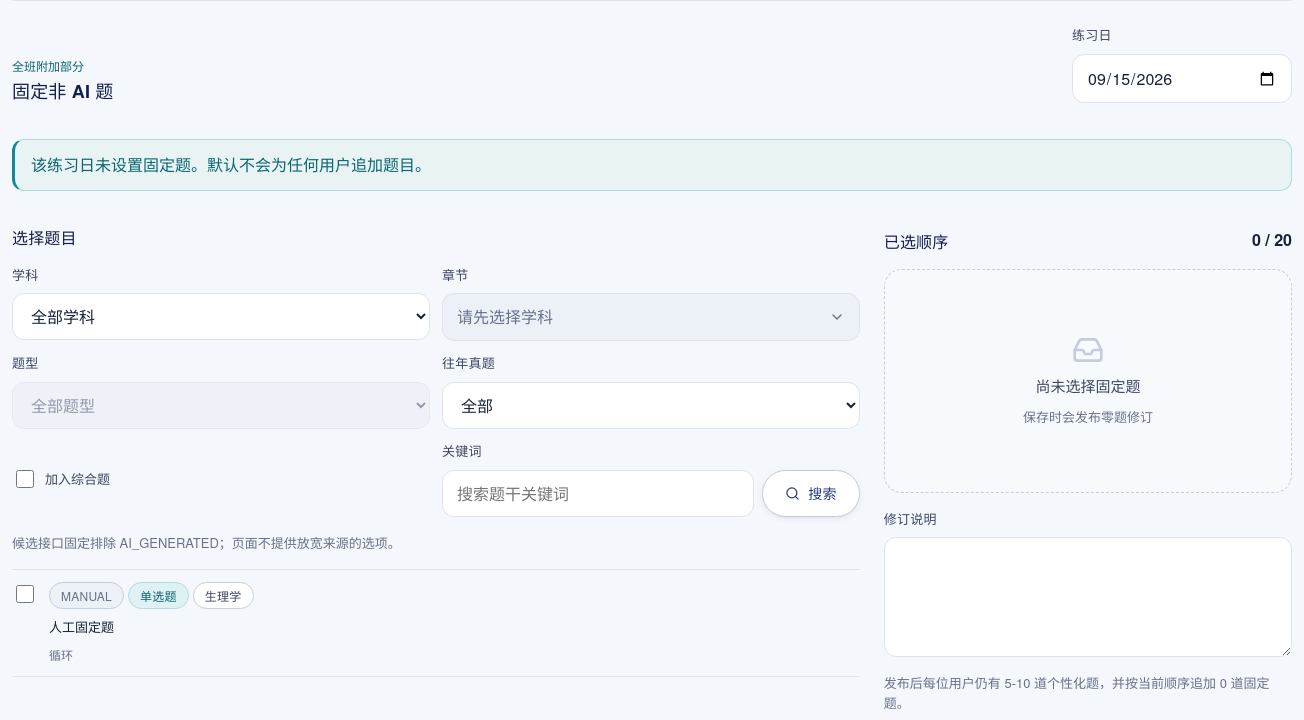
Test: AdminDailyFixedQuestions › does not show candidates from the previous filters when the new filter fails
Select "仅往年真题" in the dropdown with id "fixed-paper": (651, 405) [442,382,860,429]
(page scrolled)
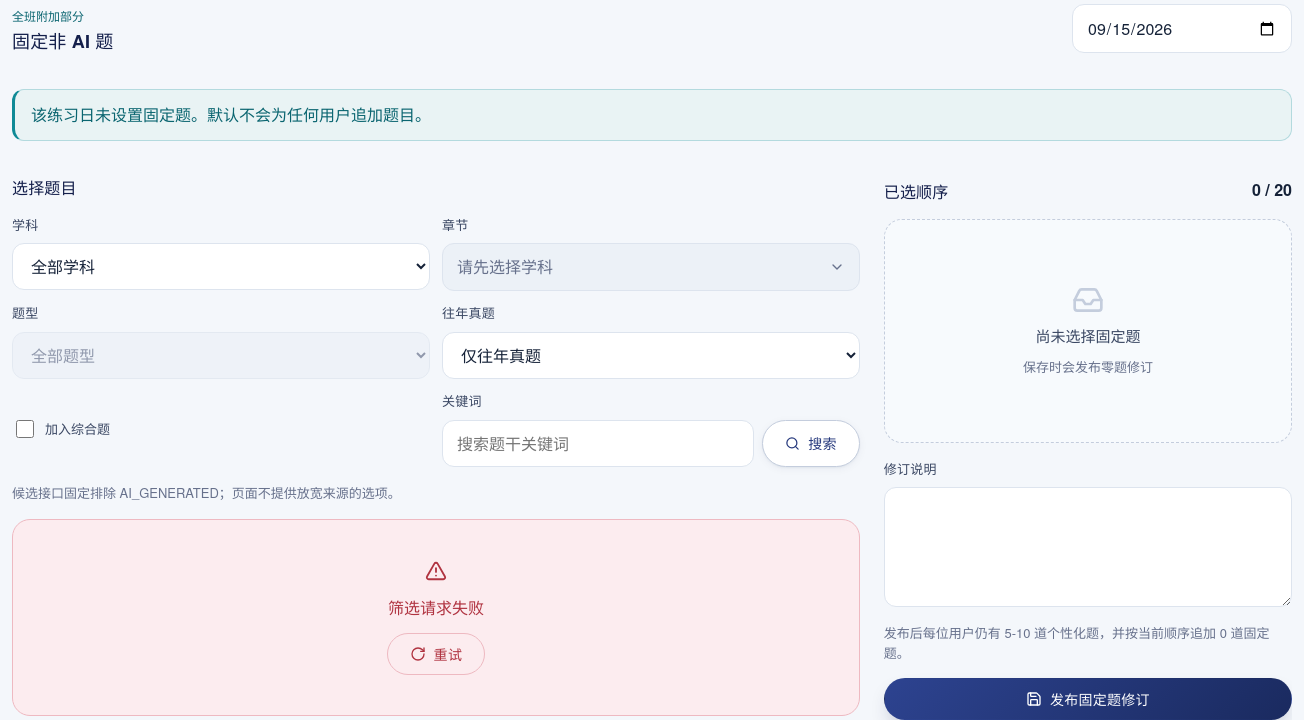
Check: the text "筛选请求失败" is shown, box [388,594,484,621]
Check: the text "人工固定题" is gone
Click the button "重试": (436, 654) [387,633,485,675]
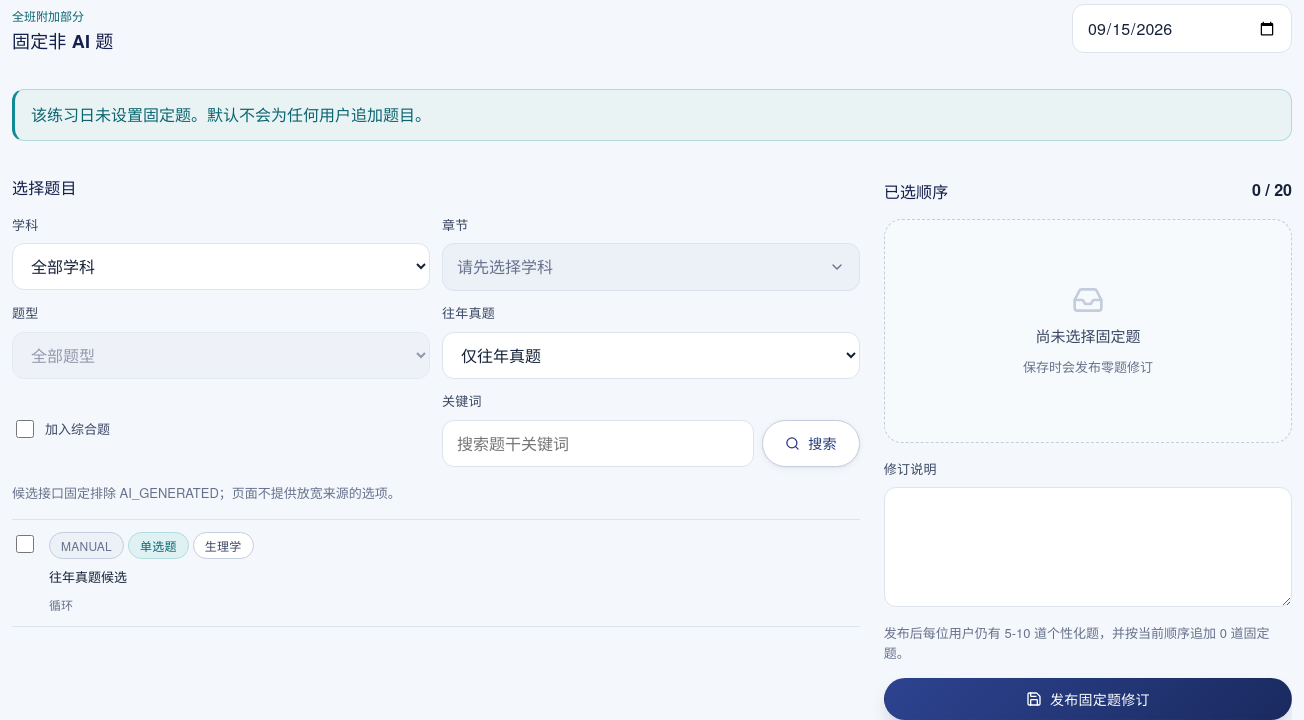
Check: the text "往年真题候选" is shown, box [49,567,127,586]
